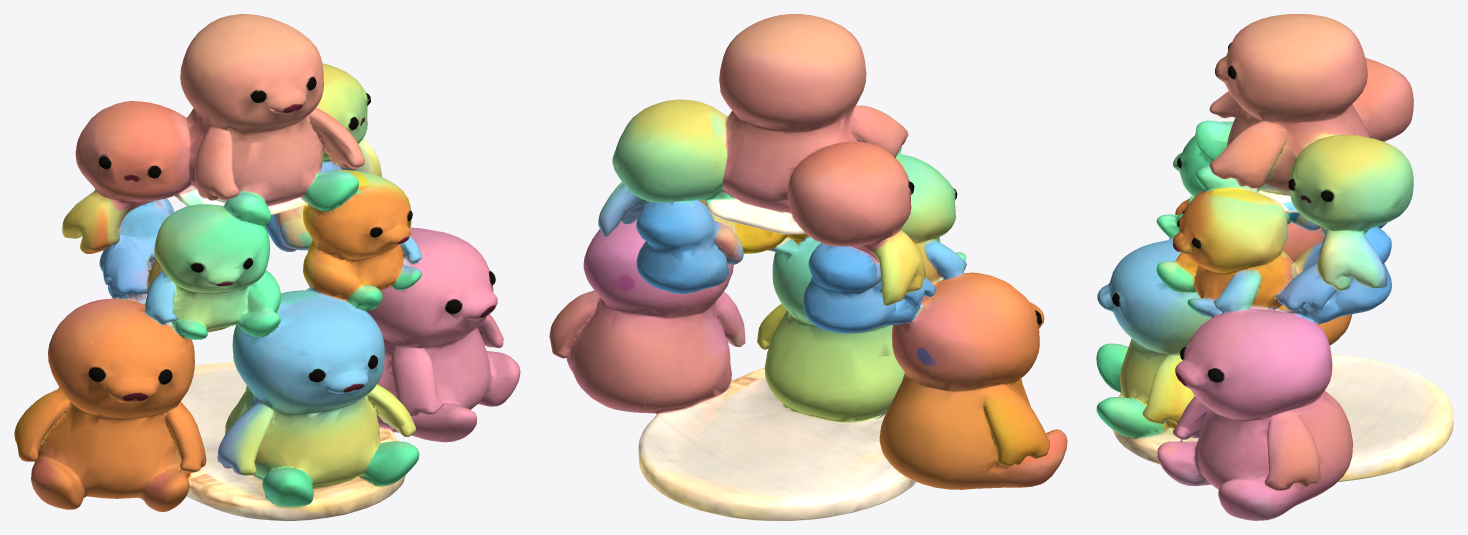
File: p2s_meshy_pastel_mascot_stack.glb
The picture shows the model from 3 angles, left to right: view 1: azimuth 30°, elevation 25°; view 2: azimuth 150°, elevation 25°; view 3: azimuth 270°, elevation 25°; orthographic projection. The views are drawn at different scales.
Parts seen in each view (by area): view 1: Mesh_0; view 2: Mesh_0; view 3: Mesh_0.
Part boxes in pixels (bbox=[...]): Mesh_0: bbox=[14, 14, 520, 520]; Mesh_0: bbox=[549, 14, 1067, 520]; Mesh_0: bbox=[1096, 14, 1453, 520].
Bounding box in the file's own units: 0.18 × 0.15 × 0.12.
1 material, 1 textured.
